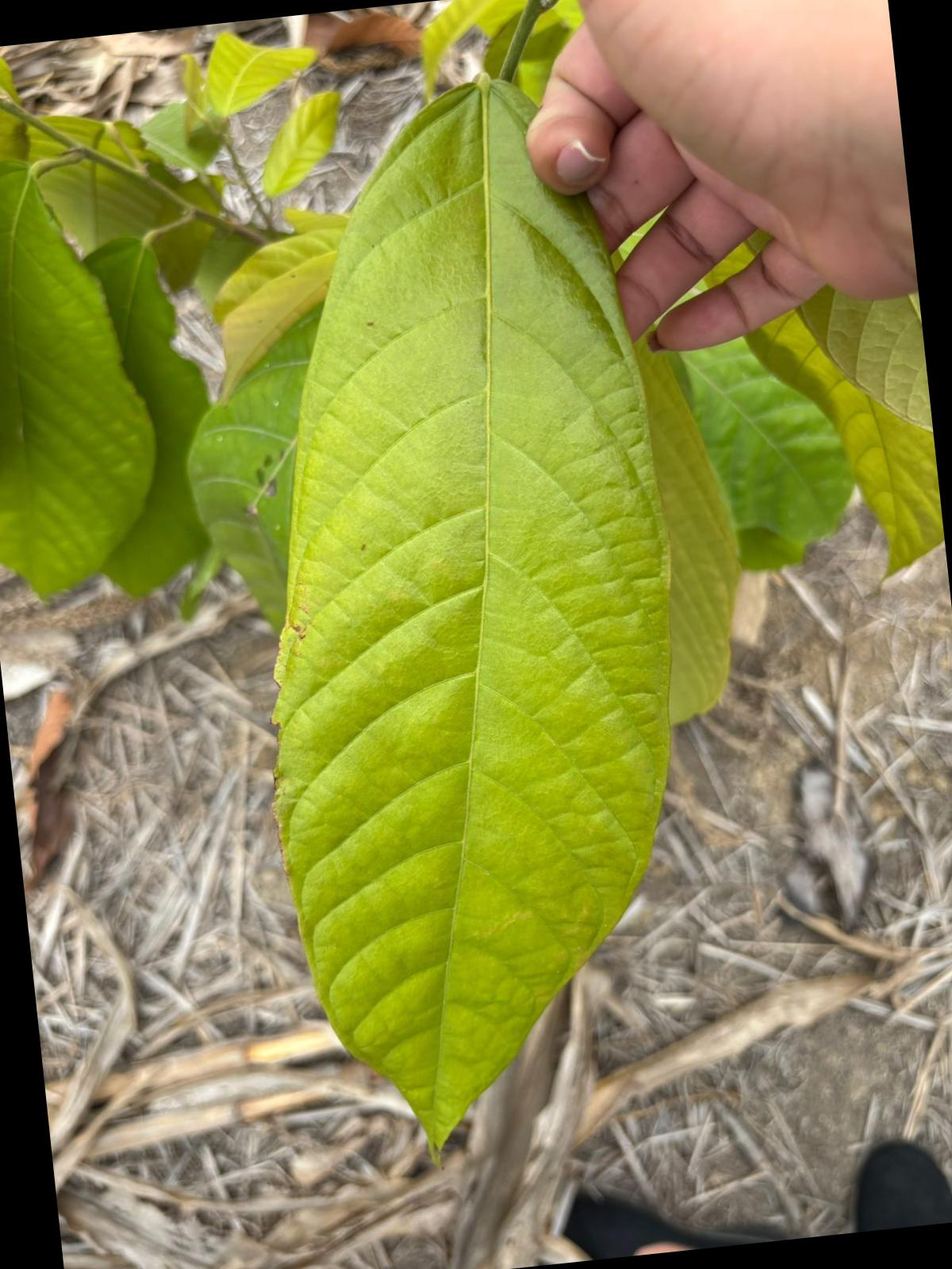Nitrogeno: (276, 78, 670, 1148)
